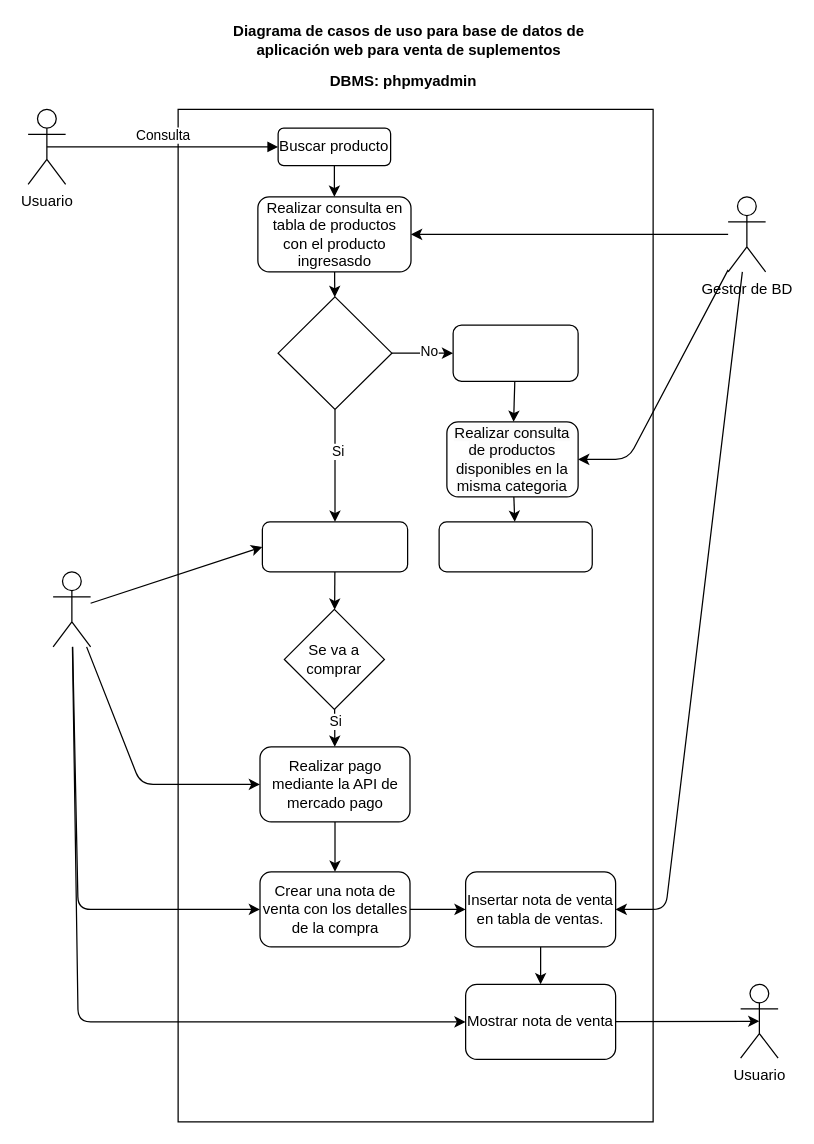
Image size: 814x1144. Some labels were removed from this diagram. The centre of each missing label's shape, as x and y in pixels:
Mostrar mensaje de no disponibildad: [515,352]
Mostrar producto: [334,546]
Mostrar productos como recomendación: [515,546]
Producto Disponible: [334,352]
Sistema: [71,609]
